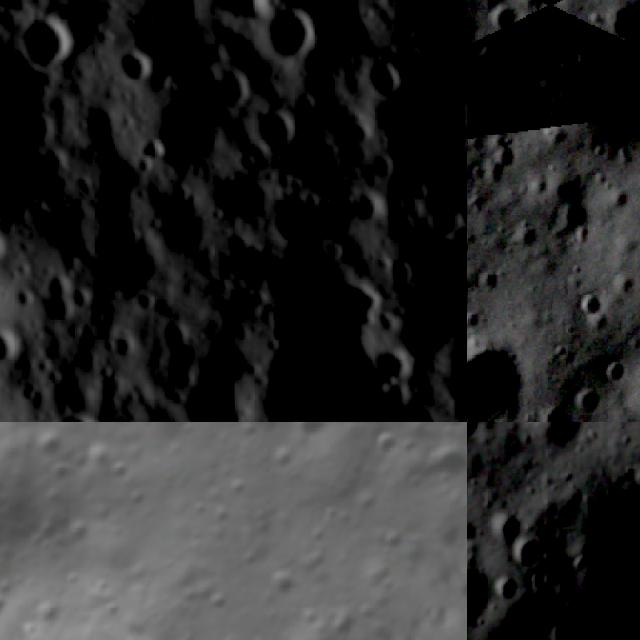crater: (544, 53, 640, 160), (169, 335, 282, 422), (0, 0, 93, 84), (467, 323, 537, 422), (253, 0, 333, 75), (358, 331, 431, 399), (244, 102, 314, 168), (353, 45, 416, 112), (104, 41, 164, 96), (203, 62, 260, 118), (217, 279, 272, 337), (128, 131, 181, 185), (200, 0, 286, 32), (361, 422, 412, 469), (467, 72, 506, 131), (590, 0, 640, 44), (508, 531, 552, 580), (482, 570, 522, 619), (0, 318, 31, 380), (442, 129, 467, 200), (484, 508, 525, 550), (573, 376, 608, 421), (487, 1, 522, 44), (429, 511, 464, 554), (624, 431, 640, 517), (283, 422, 343, 443), (0, 210, 18, 273), (46, 406, 112, 422), (508, 0, 563, 18), (574, 293, 607, 322), (604, 356, 632, 390), (467, 7, 484, 59), (530, 403, 575, 422)
